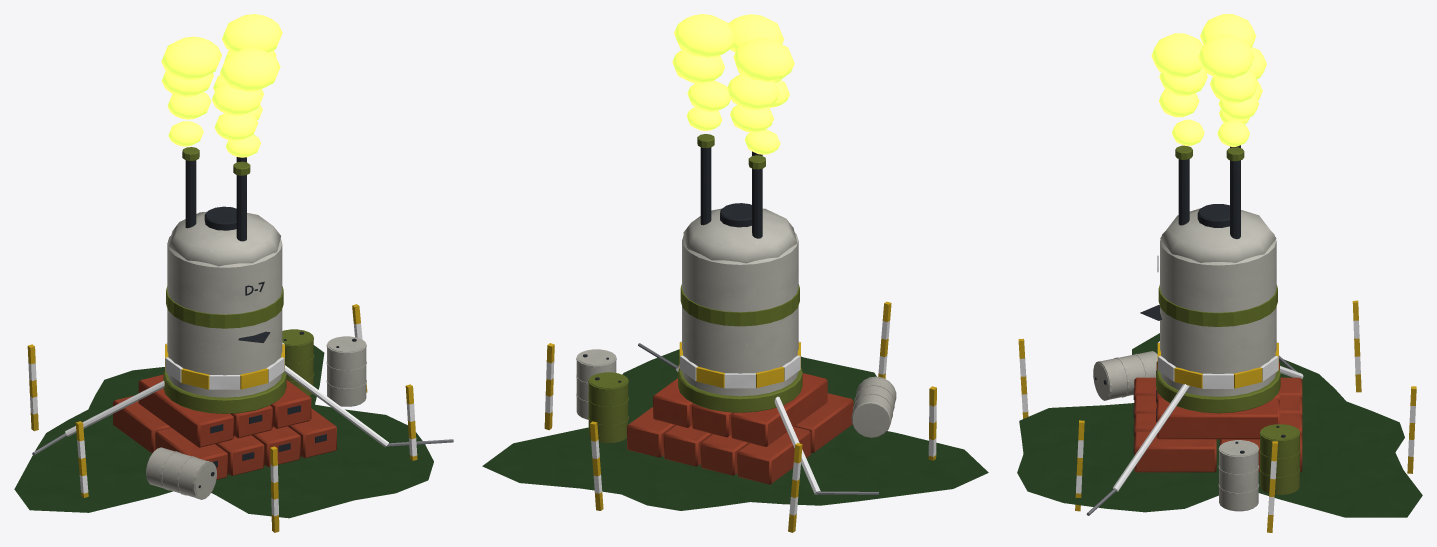
Rendered from thresher_pesticide_shrine.glb.
The picture shows the model from 3 angles, left to right: view 1: azimuth 30°, elevation 25°; view 2: azimuth 150°, elevation 25°; view 3: azimuth 270°, elevation 25°; orthographic projection.
Parts seen in each view (by area): view 1: thresher_pesticide_shrine; view 2: thresher_pesticide_shrine; view 3: thresher_pesticide_shrine.
Part boxes in pixels (left/top/right/bottom): thresher_pesticide_shrine: left=14, top=14, right=453, bottom=532; thresher_pesticide_shrine: left=482, top=14, right=988, bottom=532; thresher_pesticide_shrine: left=1017, top=14, right=1422, bottom=532.
Bounding box in the file's own units: 6.6 × 6.89 × 5.92.
16 materials, 15 textured.
